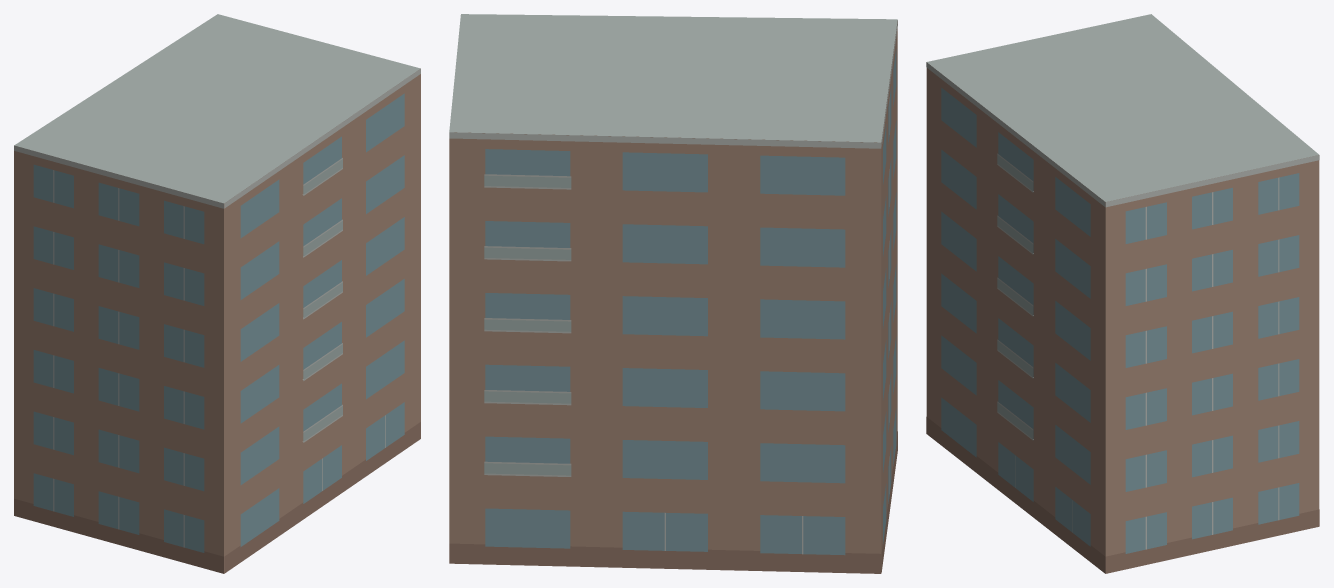
File: survey-upis-32959893.glb
The picture shows the model from 3 angles, left to right: view 1: azimuth 30°, elevation 25°; view 2: azimuth 150°, elevation 25°; view 3: azimuth 270°, elevation 25°; orthographic projection. The views are drawn at different scales.
Visible parts, largest first — view 1: survey-upis-32959893.tmp; view 2: survey-upis-32959893.tmp; view 3: survey-upis-32959893.tmp.
Boxes of the visible parts, bbox=[...] form: survey-upis-32959893.tmp: bbox=[14, 14, 420, 573]; survey-upis-32959893.tmp: bbox=[449, 14, 897, 573]; survey-upis-32959893.tmp: bbox=[926, 14, 1319, 573].
Bounding box in the file's own units: 18.34 × 16.9 × 16.2.
